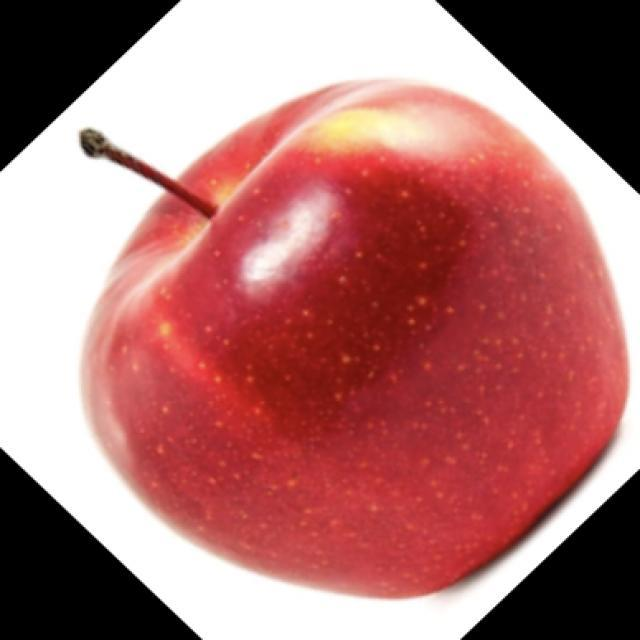Fresh Apple: (99, 78, 638, 580)
